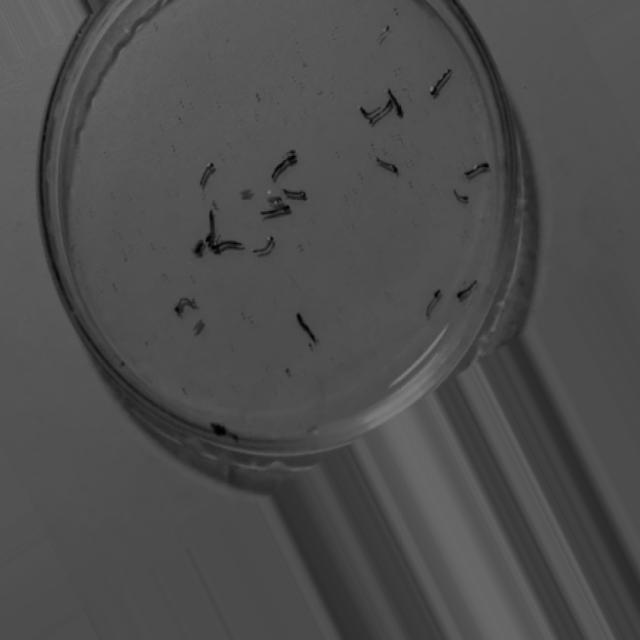larvas: (367, 97, 395, 129), (270, 152, 297, 180), (430, 69, 453, 95), (296, 314, 316, 342), (375, 156, 400, 175), (464, 161, 489, 179), (426, 289, 440, 318), (213, 240, 241, 254), (198, 163, 214, 187), (252, 236, 273, 254), (389, 88, 403, 114), (259, 204, 291, 215), (176, 294, 195, 312), (458, 280, 477, 297), (282, 188, 308, 199), (206, 212, 215, 241), (360, 105, 380, 117), (452, 190, 469, 202), (379, 25, 390, 40)
